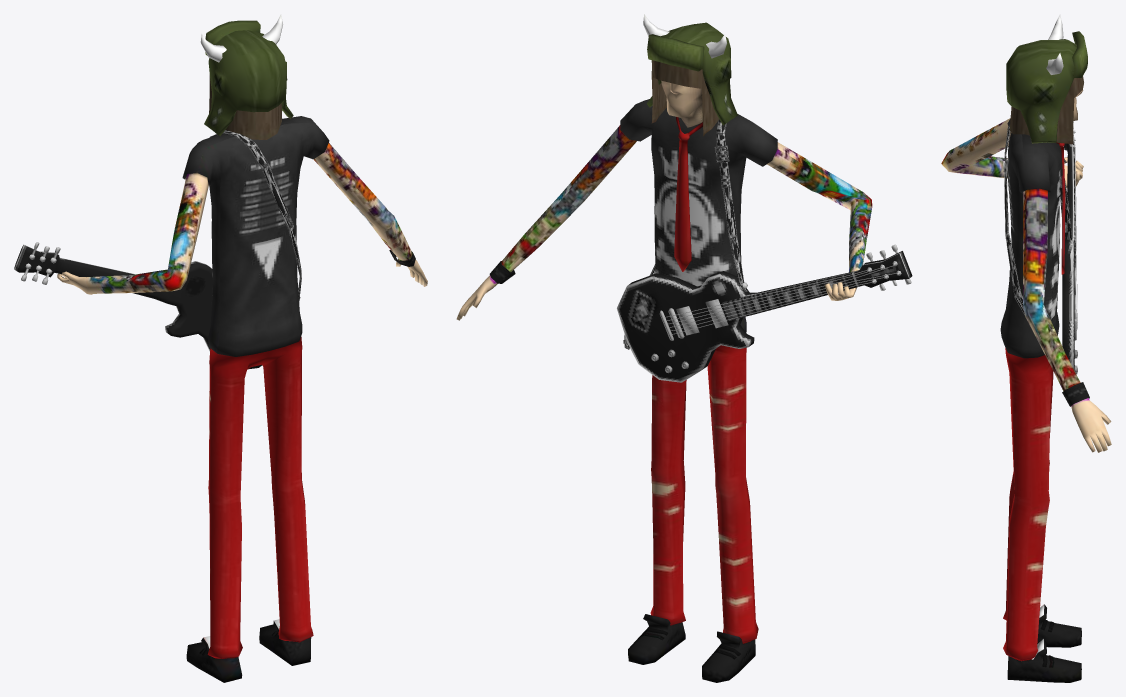
The model's file is lowpolyrocks_character_blendswap.fbx.
3 renders of one model, left to right at view 1: azimuth 30°, elevation 25°; view 2: azimuth 150°, elevation 25°; view 3: azimuth 270°, elevation 25°, orthographic. The views are drawn at different scales.
Parts seen in each view (by area): view 1: char, guitar; view 2: char, guitar; view 3: char, guitar.
Boxes of the visible parts, x1=… form: char: x1=57, y1=14, x2=427, y2=682; guitar: x1=14, y1=130, x2=301, y2=369; char: x1=456, y1=14, x2=872, y2=682; guitar: x1=617, y1=119, x2=912, y2=382; char: x1=941, y1=14, x2=1111, y2=682; guitar: x1=1004, y1=121, x2=1077, y2=374.
Bounding box in the file's own units: 1.3 × 1.83 × 0.4519.
